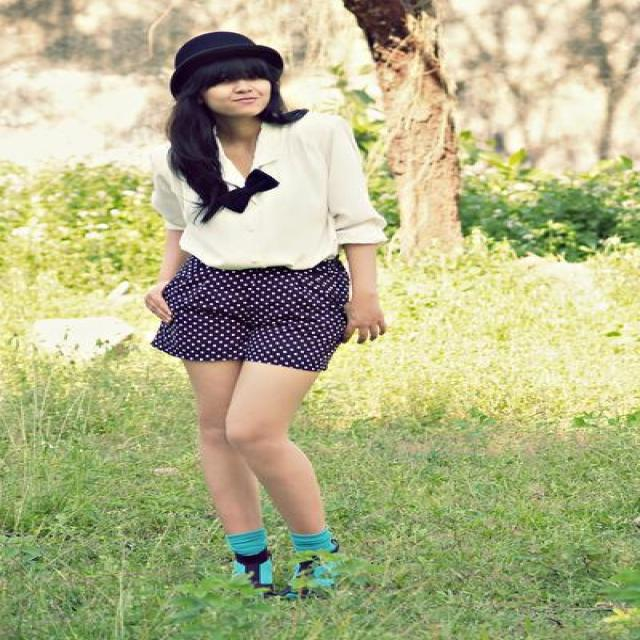hat: (184, 32, 248, 61)
shirt: (150, 110, 412, 268)
shoe: (198, 541, 339, 612)
shorts: (146, 255, 348, 370)
